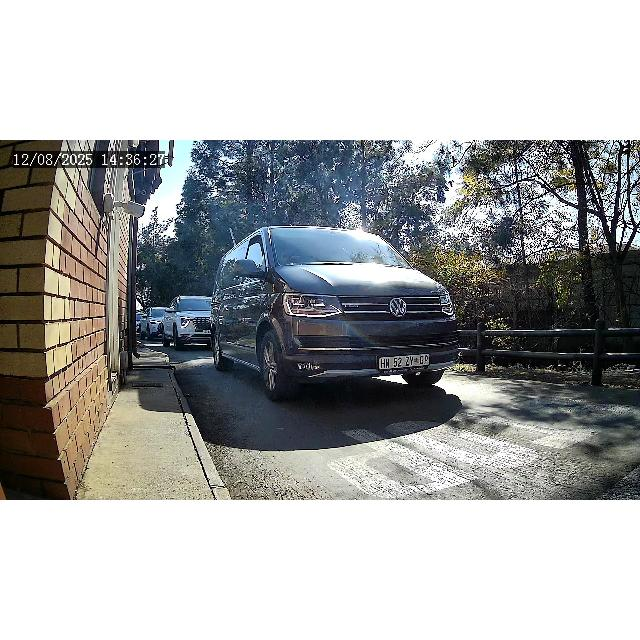car: (209, 226, 461, 400), (162, 294, 215, 350), (139, 306, 169, 344)
plate: (378, 354, 430, 368)
